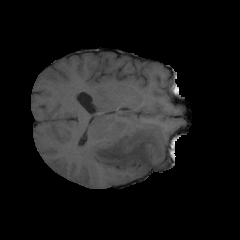glioma: (80, 115, 167, 175)
